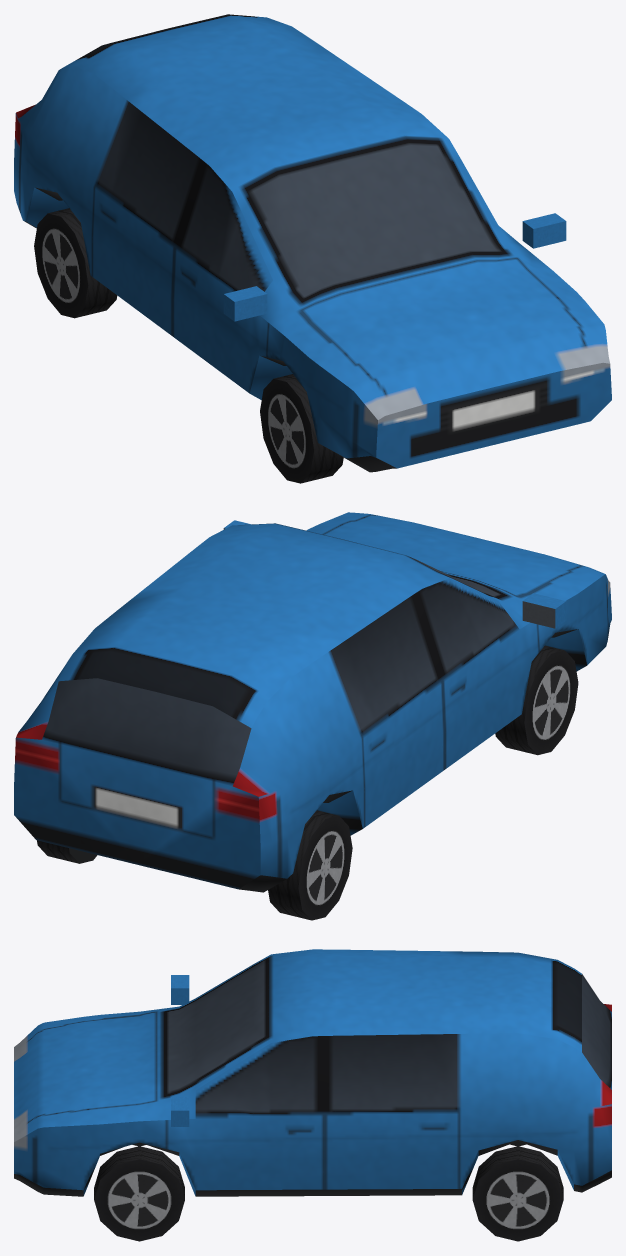
The model's file is SM_Morin_Auto_A_Col_v2_Azzurro_LOD1.fbx.
3 renders of one model, top to bottom at view 1: azimuth 30°, elevation 25°; view 2: azimuth 150°, elevation 25°; view 3: azimuth 270°, elevation 25°, orthographic. The views are drawn at different scales.
Parts seen in each view (by area): view 1: SM_Morin_Auto_A_Col_v2_Azzurro_LOD1; view 2: SM_Morin_Auto_A_Col_v2_Azzurro_LOD1; view 3: SM_Morin_Auto_A_Col_v2_Azzurro_LOD1.
Part boxes in pixels (<box>): SM_Morin_Auto_A_Col_v2_Azzurro_LOD1: <box>14,14,611,483</box>; SM_Morin_Auto_A_Col_v2_Azzurro_LOD1: <box>14,512,611,920</box>; SM_Morin_Auto_A_Col_v2_Azzurro_LOD1: <box>14,949,611,1241</box>.
Bounding box in the file's own units: 212 × 395 × 150.
Materials: 1 (1 with a texture image).
